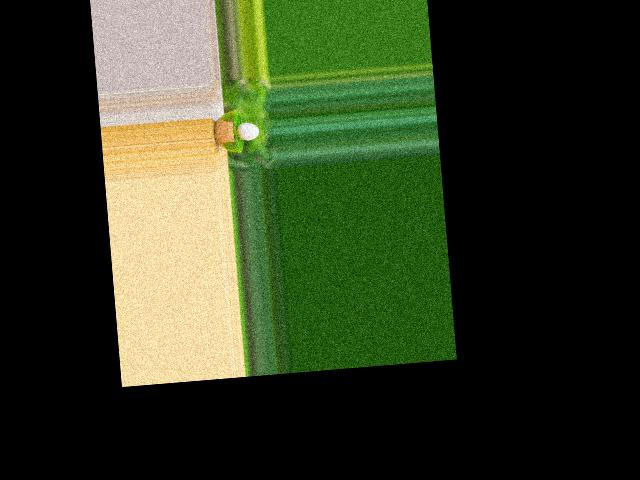egg: (235, 121, 259, 140)
